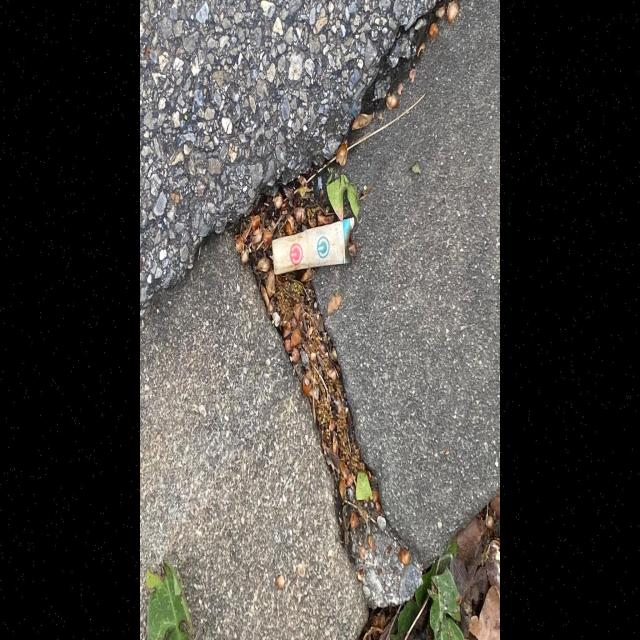other waste: (271, 217, 355, 276)
